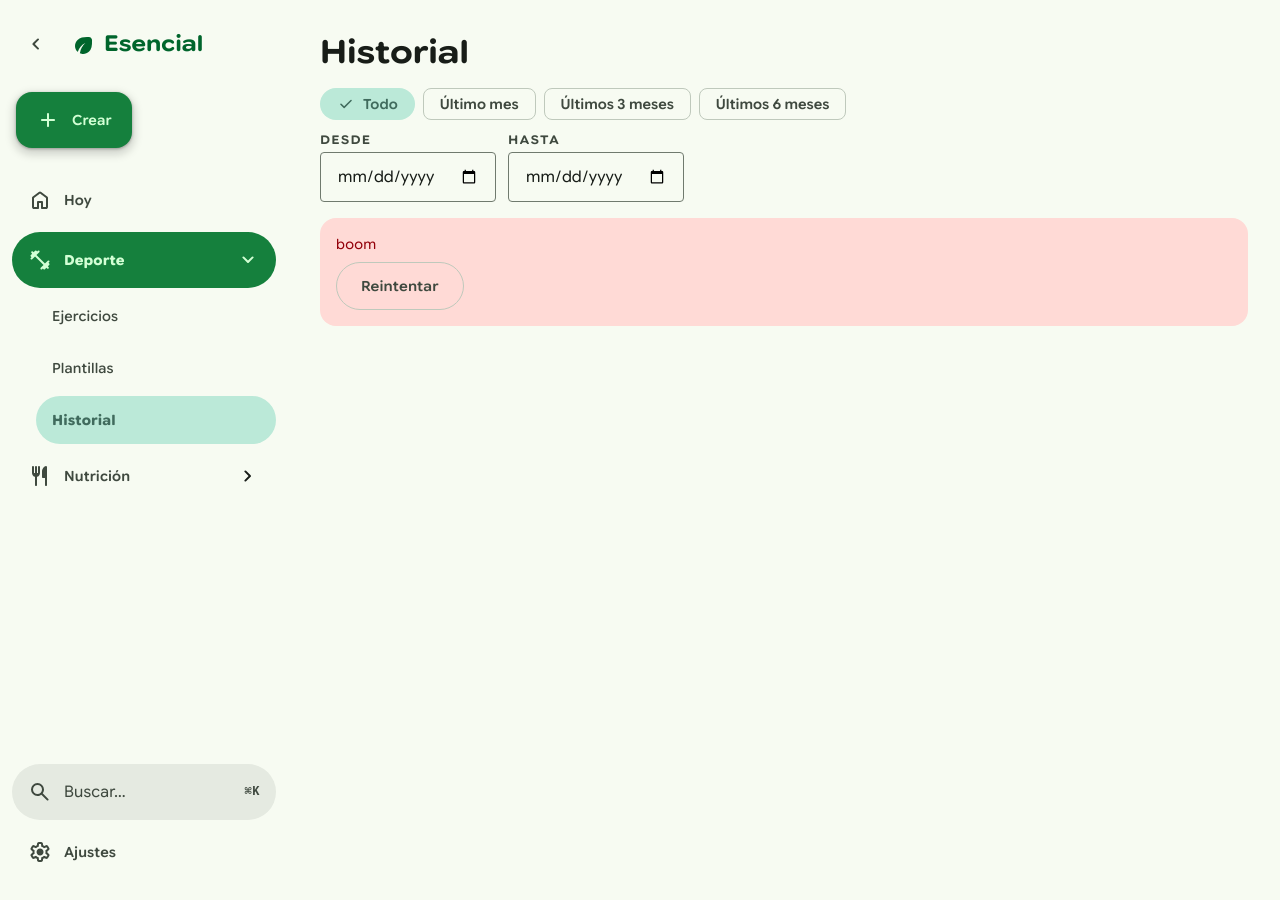
Scenario: /historial › un fallo de red se avisa y «Reintentar» vuelve a pedir
Click the button "Reintentar": {"x": 400, "y": 286} [336, 262, 464, 310]
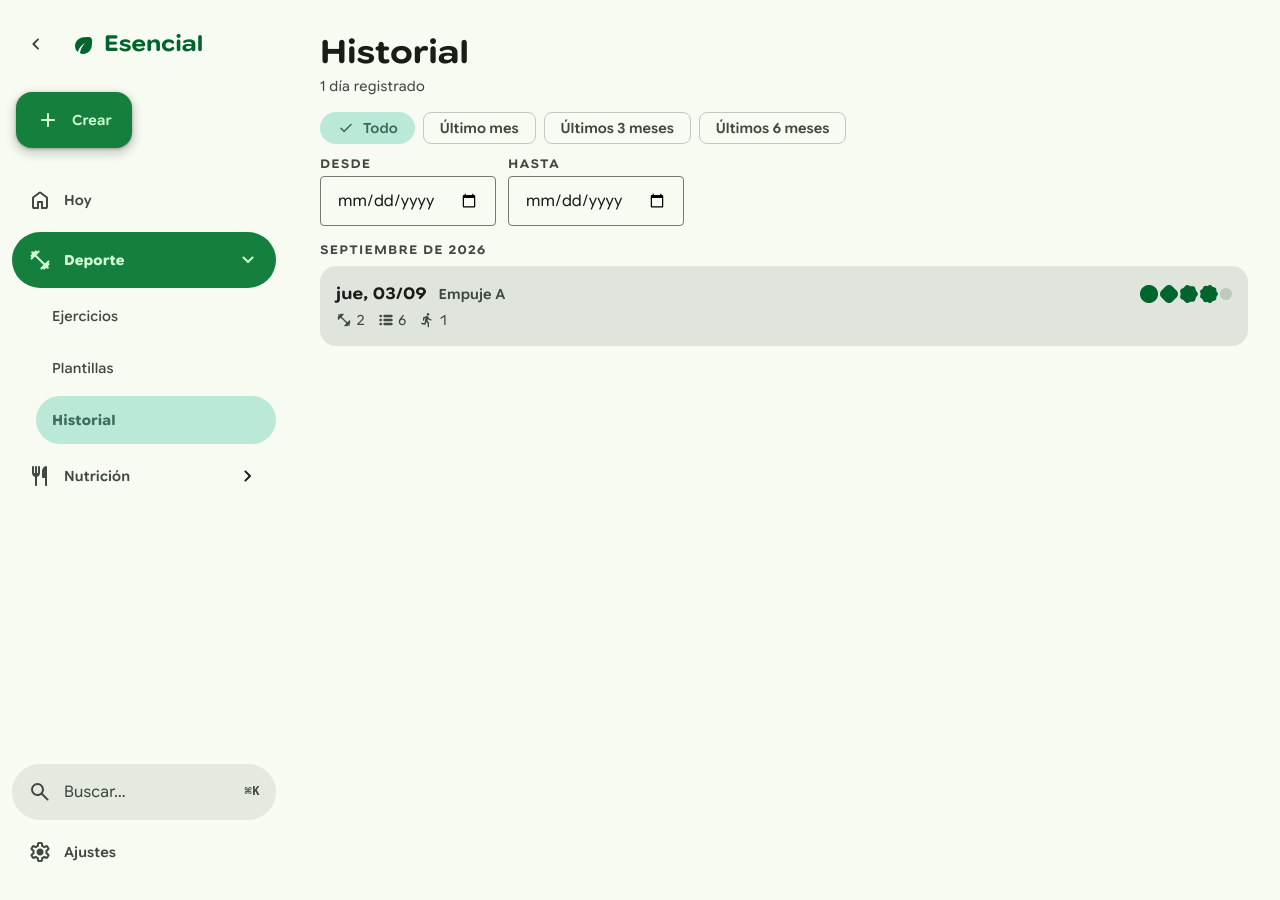
Expected: the link "jue, 03/09 Empuje A 2 6 1" is shown, [320, 266, 1248, 346]
